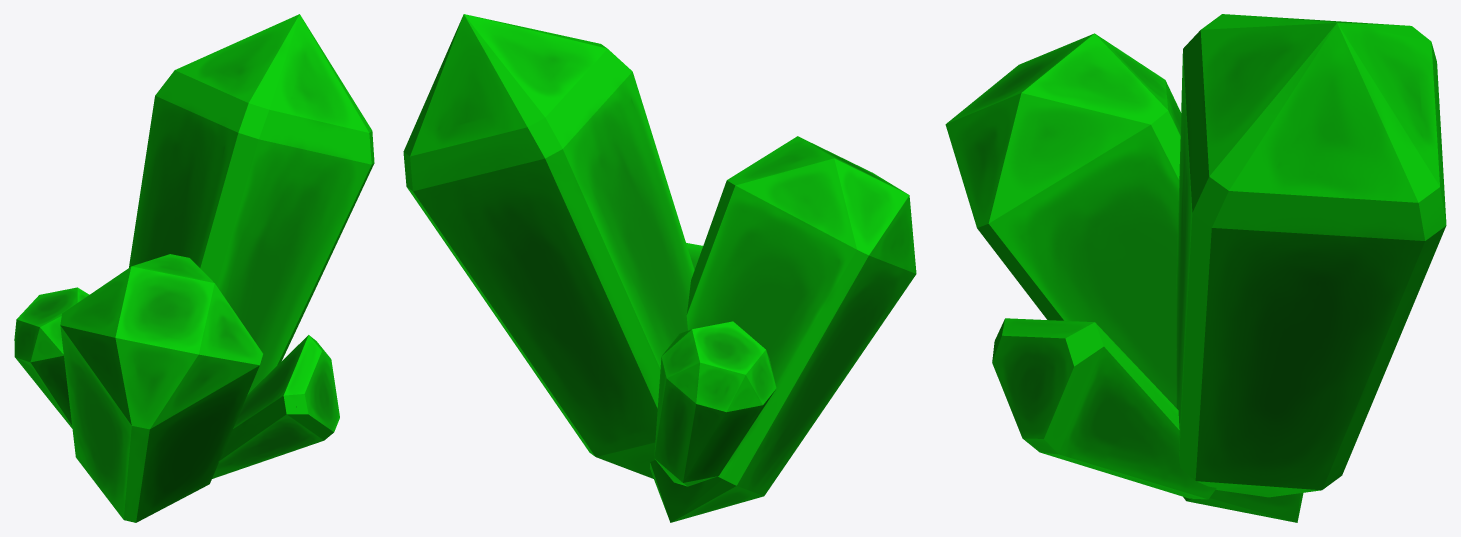
Rendered from GemCluster2.fbx.
3 renders of one model, left to right at view 1: azimuth 30°, elevation 25°; view 2: azimuth 150°, elevation 25°; view 3: azimuth 270°, elevation 25°, orthographic. The views are drawn at different scales.
Visible parts, largest first — view 1: GemCluster2; view 2: GemCluster2; view 3: GemCluster2.
Boxes of the visible parts, x1=… form: GemCluster2: x1=14, y1=14, x2=374, y2=522; GemCluster2: x1=403, y1=14, x2=916, y2=522; GemCluster2: x1=945, y1=14, x2=1446, y2=522.
Bounding box in the file's own units: 117 × 142 × 103.
Materials: 1 (1 with a texture image).
